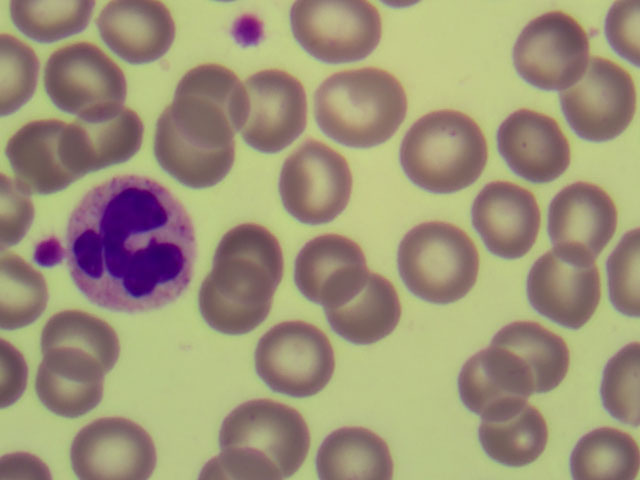Platelets: (31, 234, 66, 271), (232, 13, 267, 50)
RBC: (43, 40, 130, 122), (68, 90, 155, 172), (8, 114, 95, 196), (149, 106, 236, 188), (162, 55, 249, 137), (97, 1, 184, 83), (225, 69, 312, 151), (311, 64, 398, 146), (400, 111, 487, 193), (278, 142, 365, 224), (208, 214, 295, 296), (194, 268, 281, 350), (40, 293, 127, 375), (33, 345, 120, 427), (68, 398, 155, 480), (217, 392, 304, 474), (253, 321, 340, 403), (323, 271, 410, 353), (292, 228, 379, 310), (393, 216, 480, 298), (459, 177, 546, 259), (530, 176, 617, 258), (492, 102, 579, 184), (553, 53, 640, 135), (507, 11, 594, 93), (519, 243, 606, 325), (489, 312, 576, 394), (443, 340, 530, 422), (471, 388, 558, 470), (287, 1, 374, 82), (567, 423, 640, 480), (317, 423, 390, 480)
WBC: (63, 178, 203, 316)
